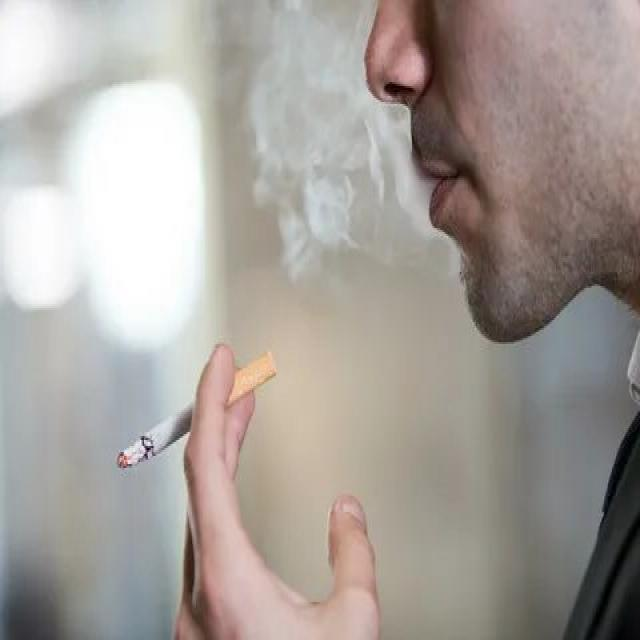cigarette: (115, 348, 282, 478)
